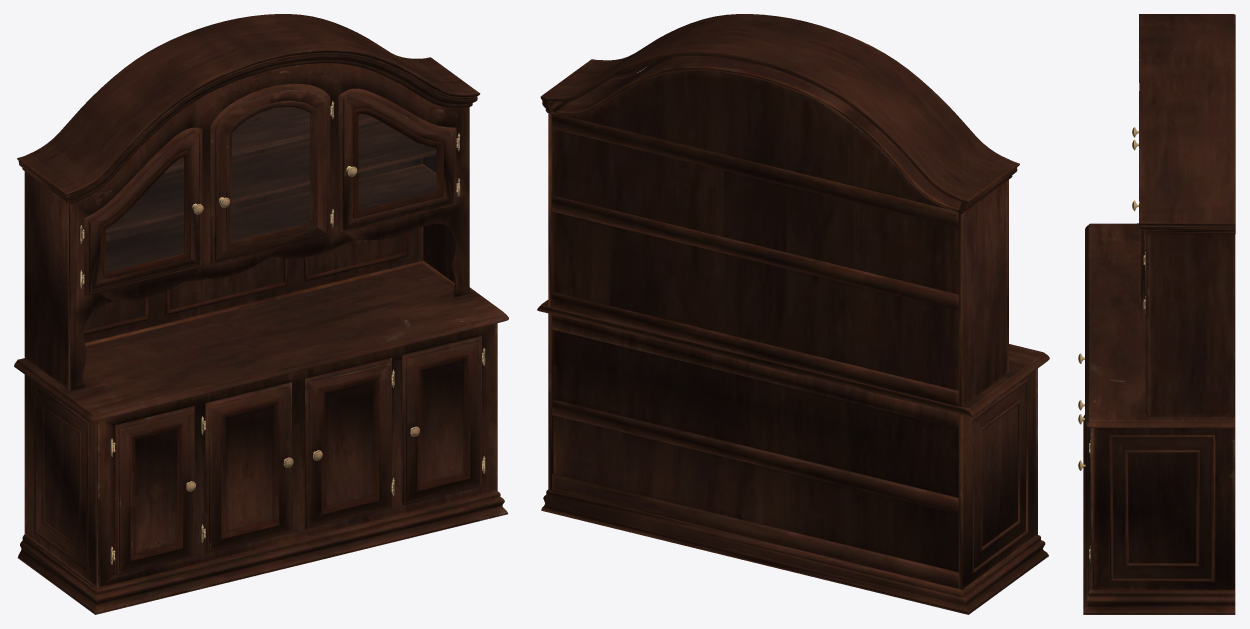
File: vintage_cabinet_01.glb
3 views of the same model, side by side, from view 1: azimuth 30°, elevation 25°; view 2: azimuth 150°, elevation 25°; view 3: azimuth 270°, elevation 25° (orthographic). The views are drawn at different scales.
Visible parts, largest first — view 1: vintage_cabinet_01_body, vintage_cabinet_01_door_01; view 2: vintage_cabinet_01_body; view 3: vintage_cabinet_01_body.
Boxes of the visible parts, x1,y1,x2,y2 form: vintage_cabinet_01_body: (14,14,508,614); vintage_cabinet_01_door_01: (106,107,436,271); vintage_cabinet_01_body: (537,14,1049,614); vintage_cabinet_01_body: (1078,14,1235,614).
Bounding box in the file's own units: 2.02 × 2.23 × 0.6697.
Materials: 3 (2 with a texture image).
